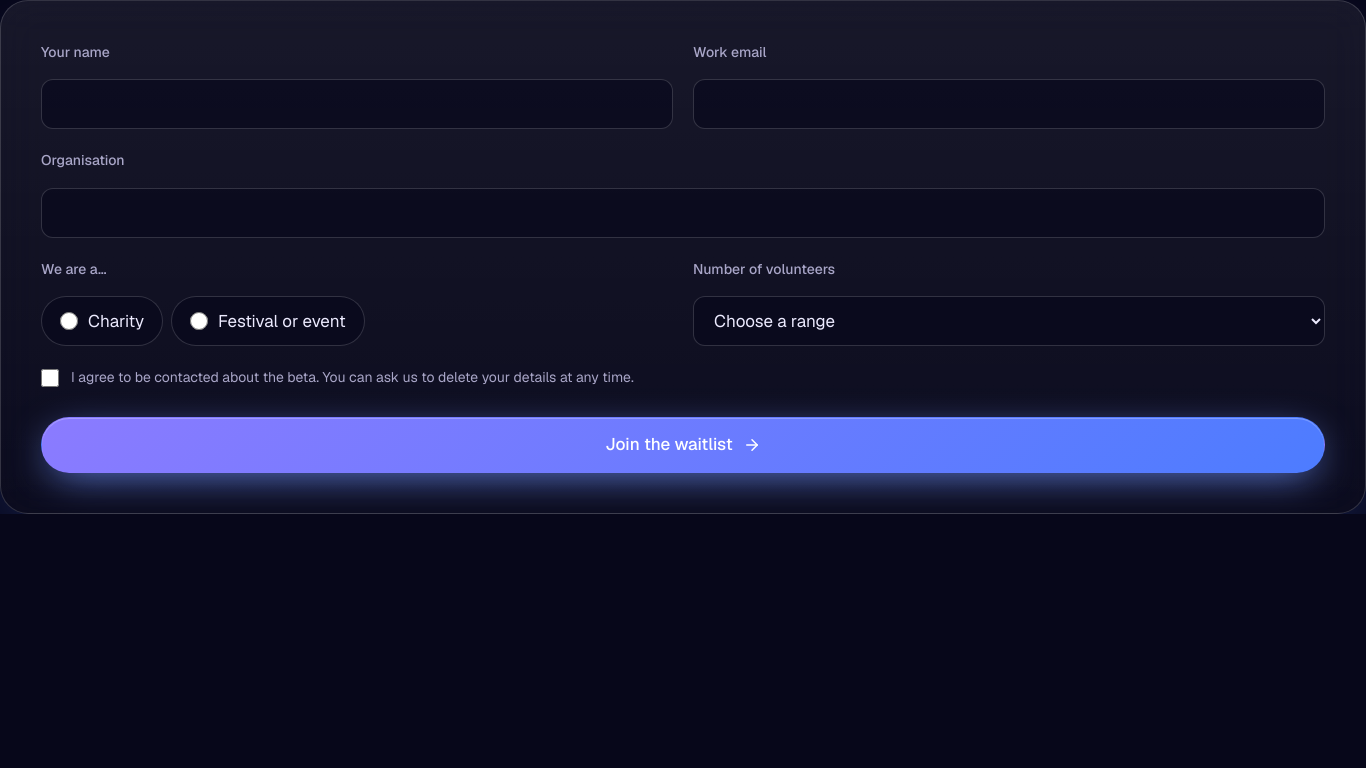
Test case: WaitlistForm › shows field errors and does not call the API when empty
Click the button "Join the waitlist". click: (683, 445)
box: [41,417,1325,473]
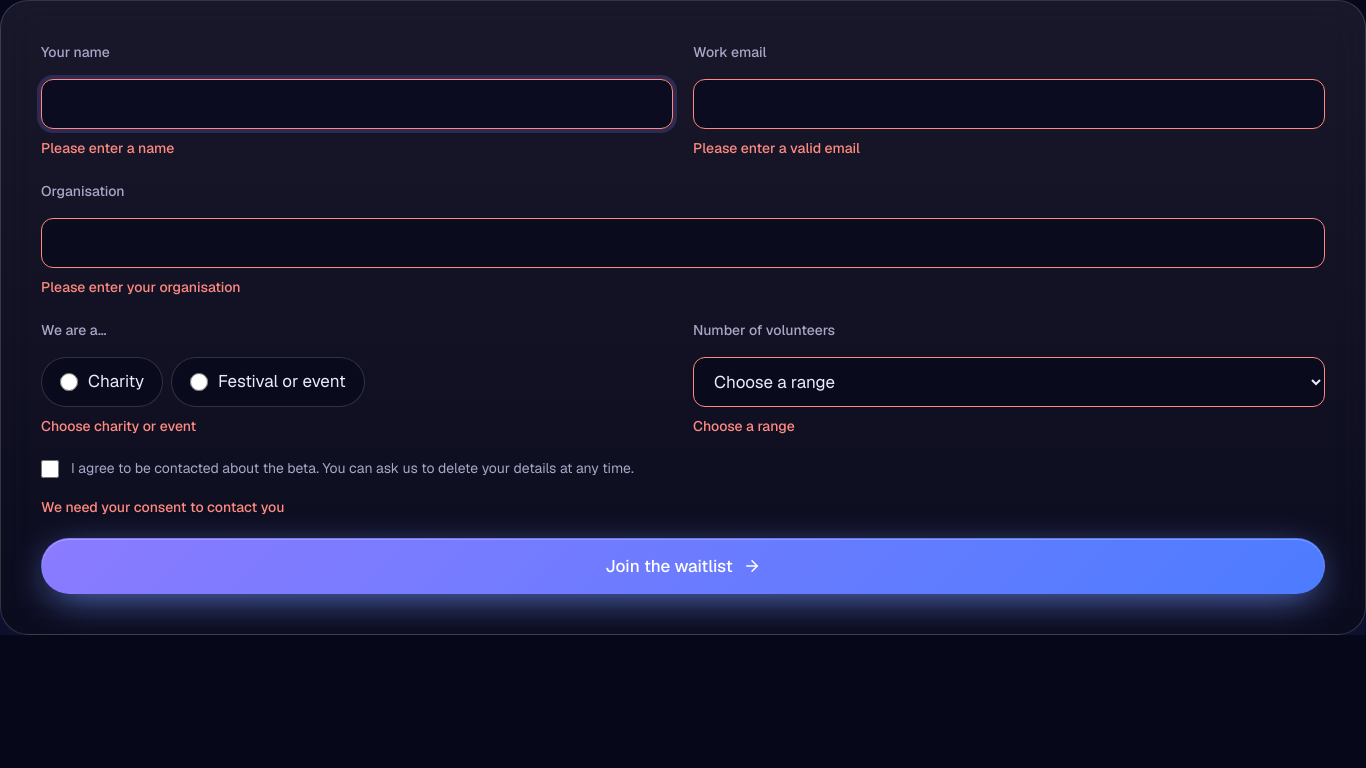
Expected: the text "Please enter a name" is shown, [41,139,174,157]
Expected: the text "Please enter a valid email" is shown, [693,139,860,157]
